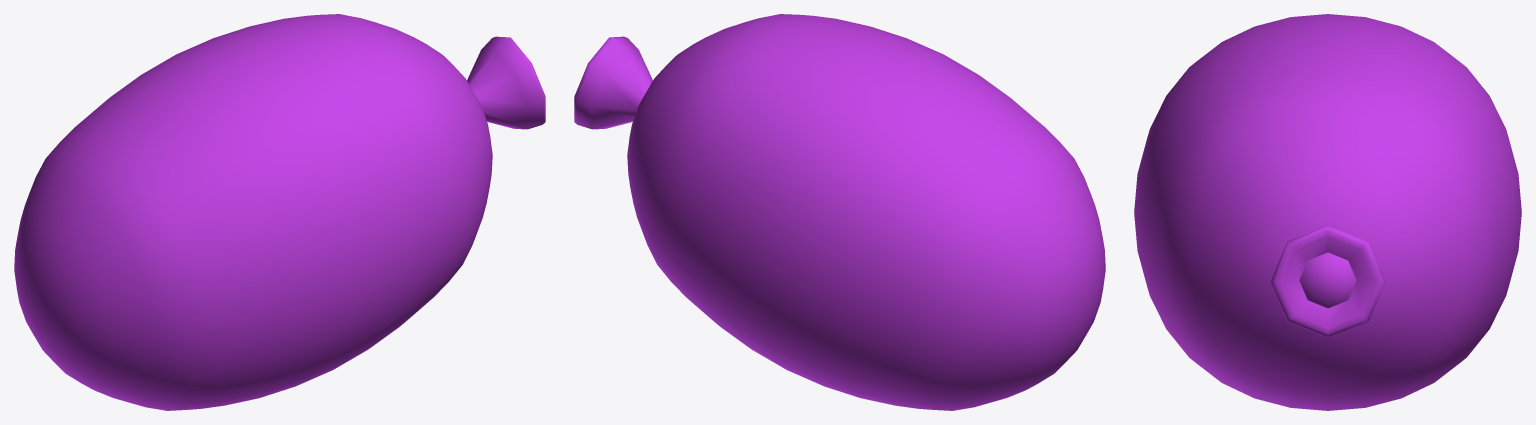
Rendered from model_baloon_lv_1_4.fbx.
The picture shows the model from 3 angles, left to right: view 1: azimuth 30°, elevation 25°; view 2: azimuth 150°, elevation 25°; view 3: azimuth 270°, elevation 25°; orthographic projection. The views are drawn at different scales.
Parts seen in each view (by area): view 1: lv_1_4; view 2: lv_1_4; view 3: lv_1_4.
Part boxes in pixels (bbox=[...]): lv_1_4: bbox=[14, 14, 545, 410]; lv_1_4: bbox=[574, 14, 1105, 410]; lv_1_4: bbox=[1134, 14, 1521, 410].
Bounding box in the file's own units: 72.31 × 45.44 × 43.39.
